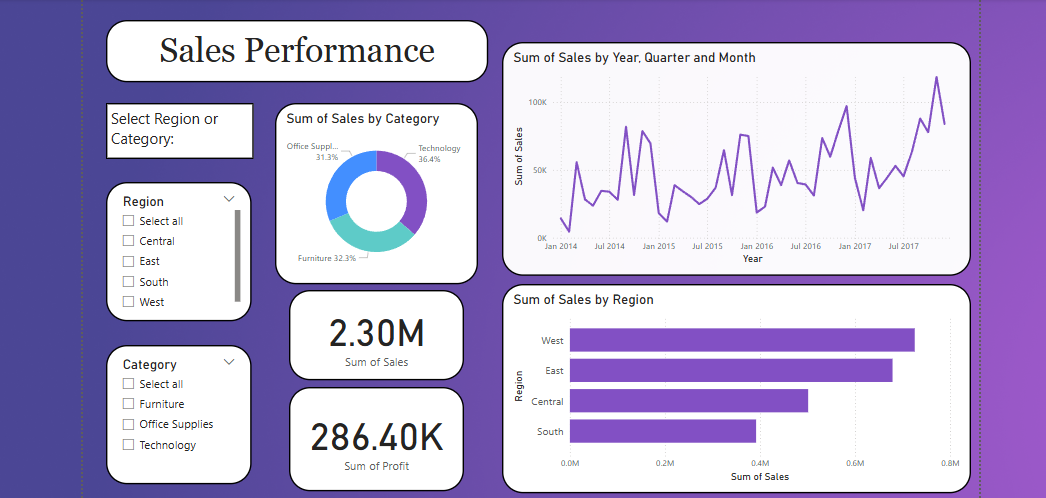

This screenshot's page, from the dashboard's own definition file:
{"tool":"powerbi","page":{"name":"Page 1","canvas":[1280,720],"ordinal":0},"visuals":[{"type":"lineChart","fields":{"Y":["Sum(Superstore_Sales_Cleaned.Sales)"],"Category":["Superstore_Sales_Cleaned.MonthYearDate.Variation.Date Hierarchy.Year","Superstore_Sales_Cleaned.MonthYearDate.Variation.Date Hierarchy.Quarter","Superstore_Sales_Cleaned.MonthYearDate.Variation.Date Hierarchy.Month"]},"box":[598.5,67.3,670.2,333.7],"z":0},{"type":"barChart","fields":{"Category":["Superstore_Sales_Cleaned.Region"],"Y":["Sum(Superstore_Sales_Cleaned.Sales)"]},"box":[598.5,412.7,670.2,298.5],"z":1000},{"type":"slicer","fields":{"Values":["Superstore_Sales_Cleaned.Region"]},"box":[32.5,267.4,207.7,198.7],"z":2000},{"type":"slicer","fields":{"Values":["Superstore_Sales_Cleaned.Category"]},"box":[32.2,500.5,207.8,199],"z":3000},{"type":"textbox","box":[32.2,35.1,545.9,89.3],"z":4000},{"type":"textbox","box":[32.2,153.7,210.7,80.5],"z":5000},{"type":"donutChart","fields":{"Category":["Superstore_Sales_Cleaned.Category"],"Y":["Sum(Superstore_Sales_Cleaned.Sales)"]},"box":[273.7,153.7,289.8,259],"z":6000},{"type":"card","fields":{"Values":["Sum(Superstore_Sales_Cleaned.Sales)"]},"box":[294.1,421.5,250.2,128.8],"z":7000},{"type":"card","fields":{"Values":["Sum(Superstore_Sales_Cleaned.Profit)"]},"box":[294.1,560.5,250.2,149.3],"z":8000}]}

Visuals, with their boxes in screenshot pixels (x1, y1, x2, y2):
lineChart - Sum(Superstore_Sales_Cleaned.Sales) x Superstore_Sales_Cleaned.MonthYearDate.Variation.Date Hierarchy.Year: [x1=503, y1=39, x2=977, y2=276]
barChart - Superstore_Sales_Cleaned.Region x Sum(Superstore_Sales_Cleaned.Sales): [x1=503, y1=284, x2=977, y2=495]
slicer - Superstore_Sales_Cleaned.Region: [x1=102, y1=181, x2=249, y2=322]
slicer - Superstore_Sales_Cleaned.Category: [x1=102, y1=346, x2=249, y2=487]
textbox: [x1=102, y1=17, x2=488, y2=80]
textbox: [x1=102, y1=101, x2=251, y2=158]
donutChart - Superstore_Sales_Cleaned.Category x Sum(Superstore_Sales_Cleaned.Sales): [x1=273, y1=101, x2=478, y2=284]
card - Sum(Superstore_Sales_Cleaned.Sales): [x1=287, y1=290, x2=464, y2=381]
card - Sum(Superstore_Sales_Cleaned.Profit): [x1=287, y1=389, x2=464, y2=494]
